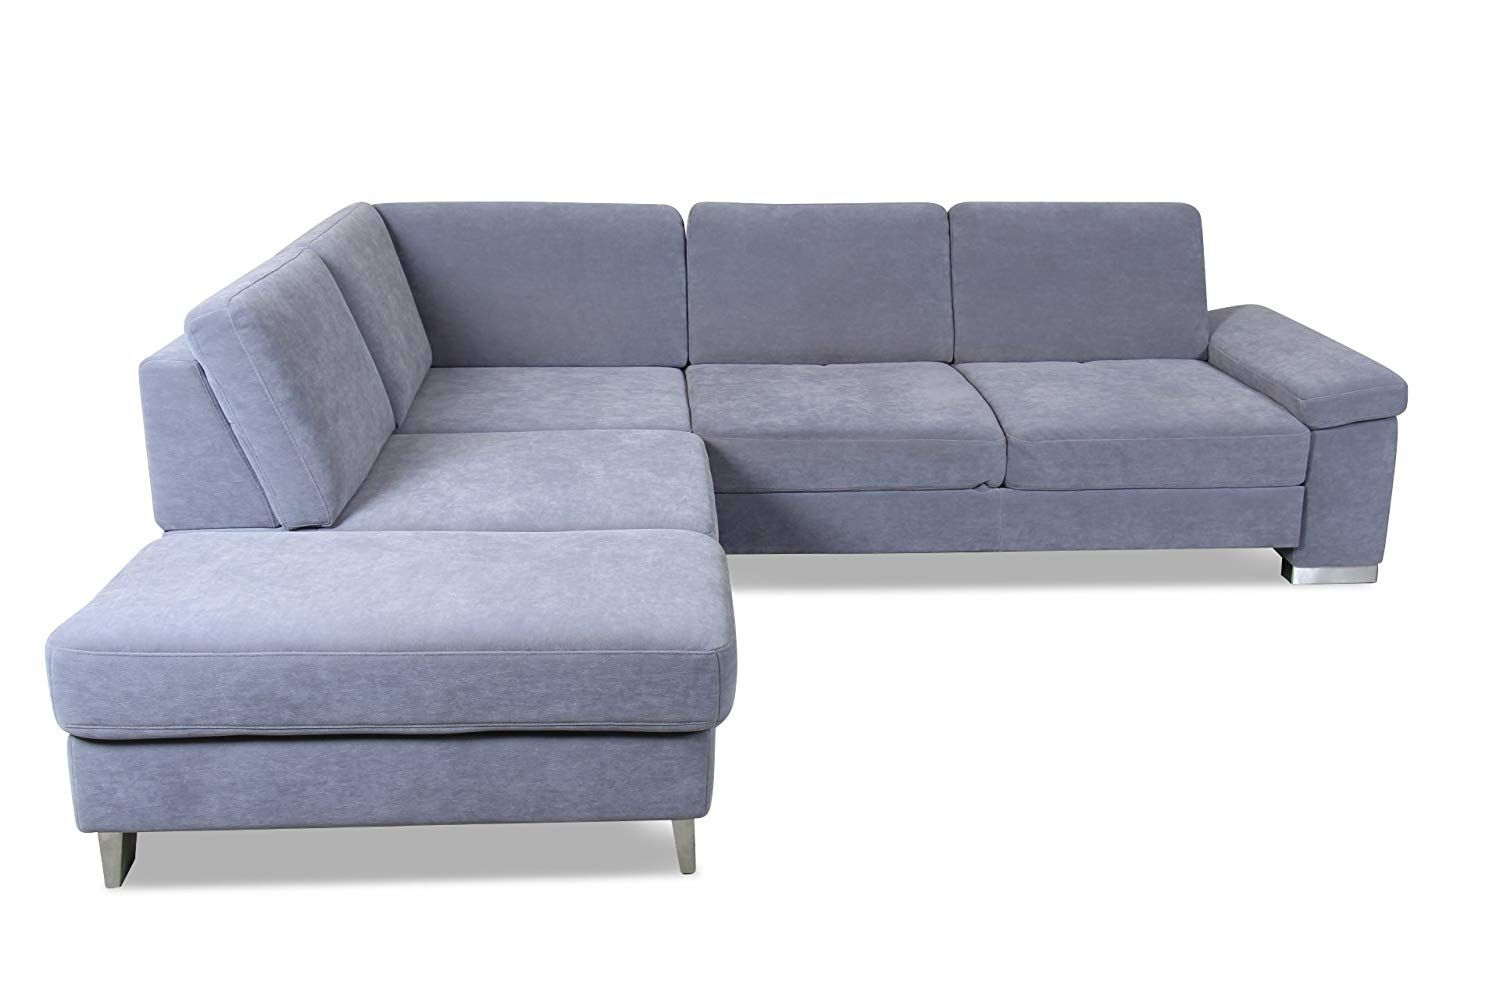sova: (22, 196, 1465, 911)
